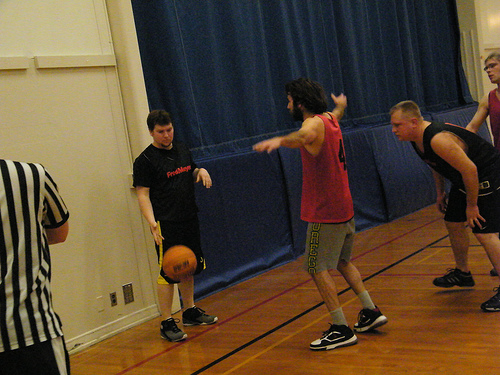basketball: (160, 246, 197, 282)
